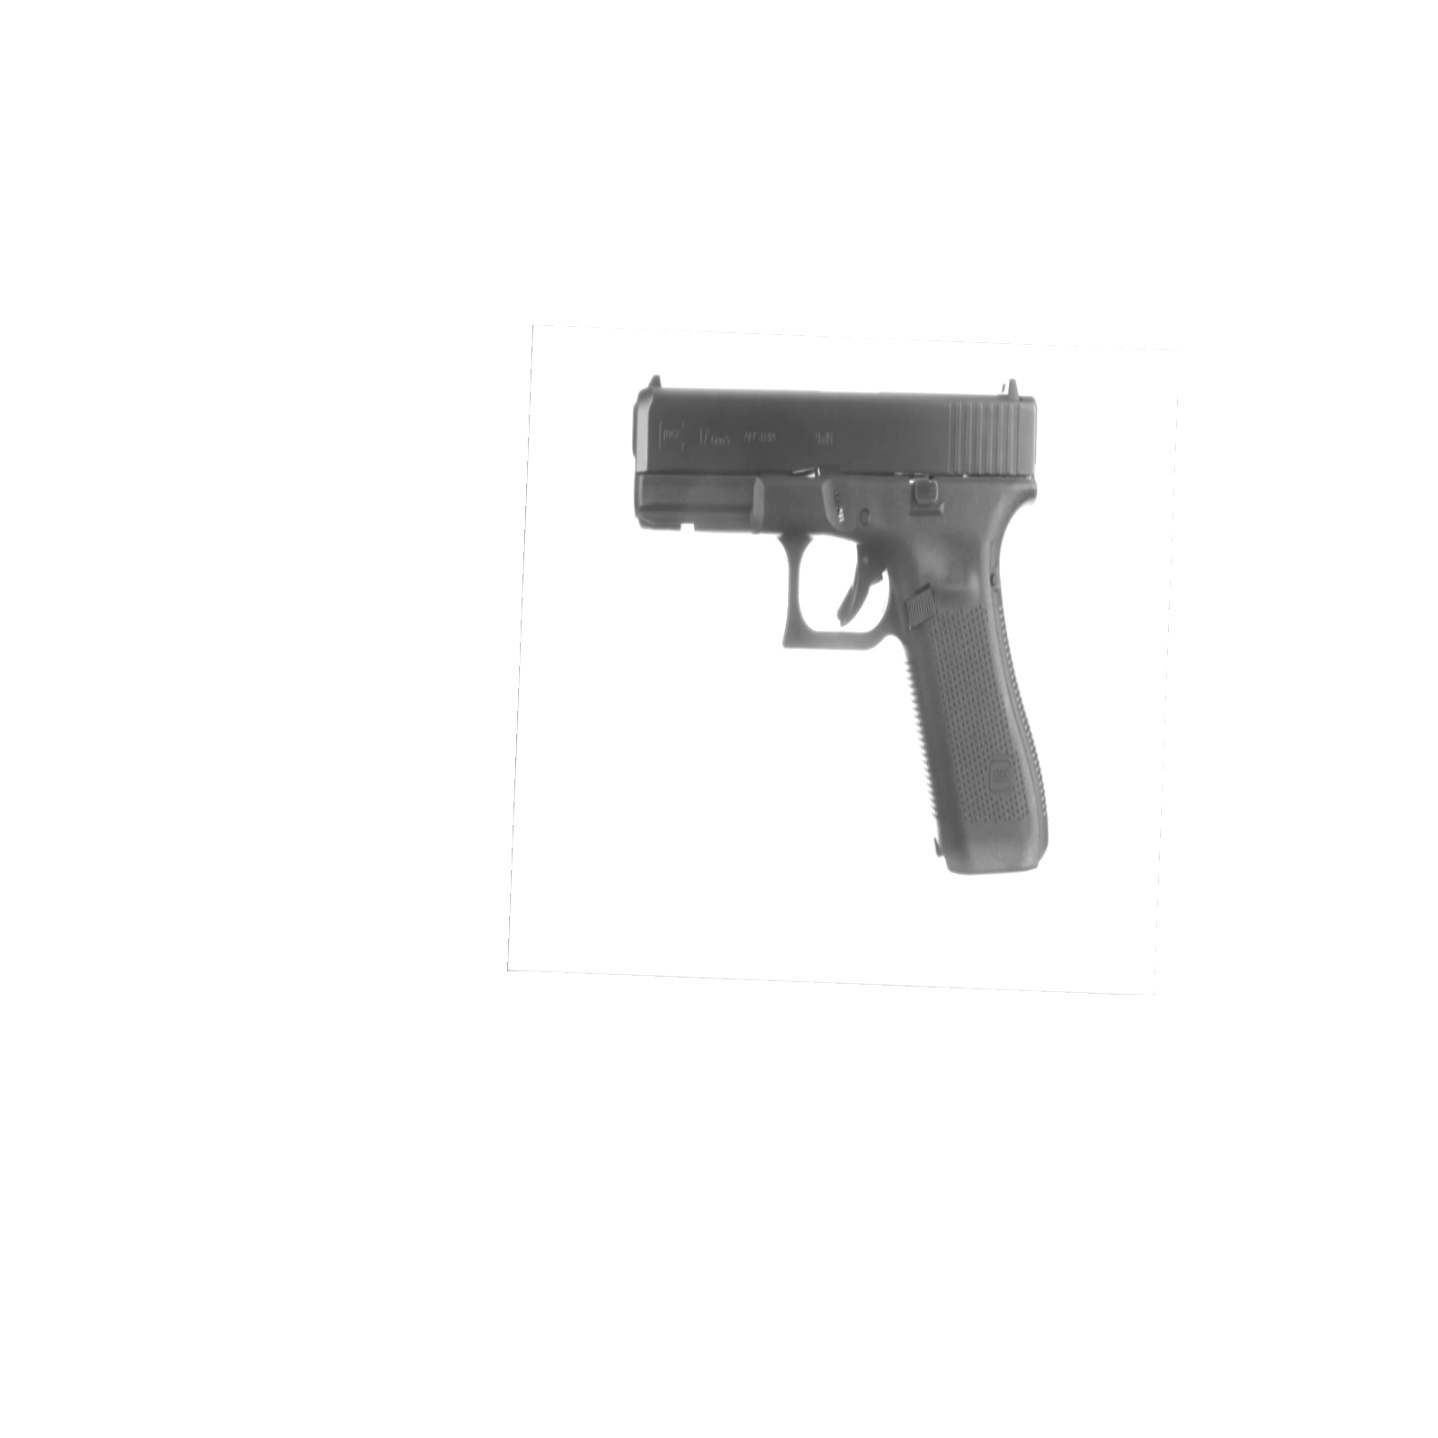gun: (627, 371, 1053, 880)
